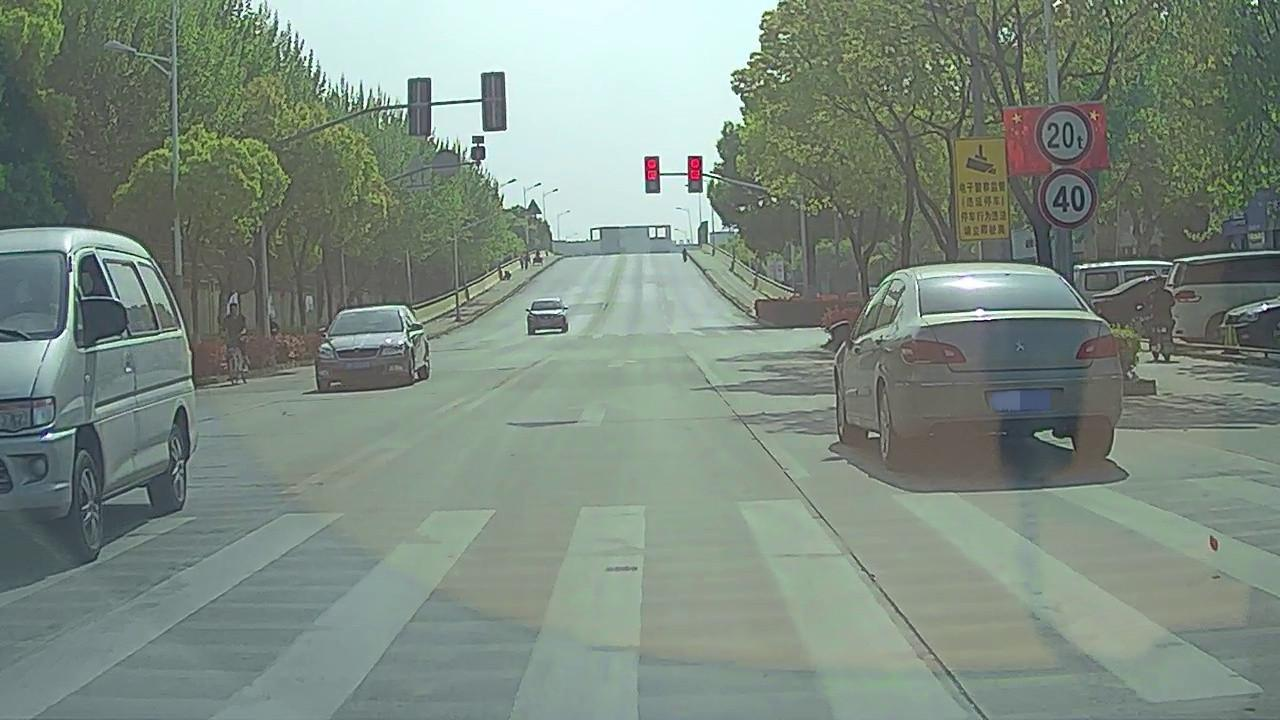traffic_light: (689, 155, 703, 192), (645, 157, 659, 192)
